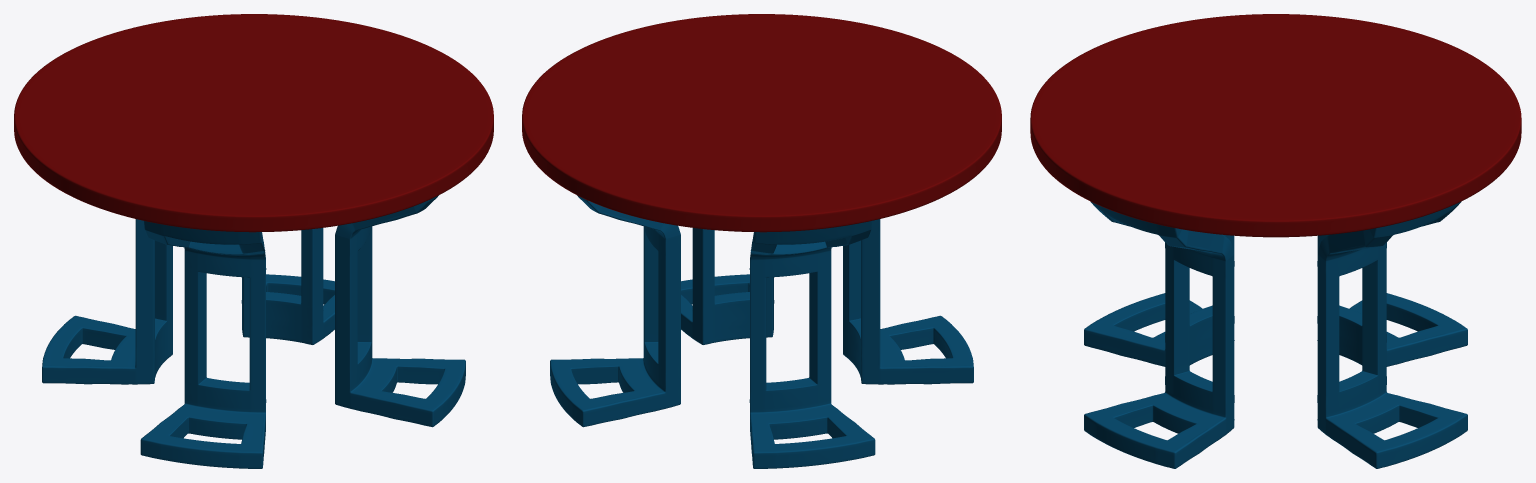
The model's file is MesaRobotHP.fbx.
3 views of the same model, side by side, from view 1: azimuth 30°, elevation 25°; view 2: azimuth 150°, elevation 25°; view 3: azimuth 270°, elevation 25° (orthographic). The views are drawn at different scales.
Parts seen in each view (by area): view 1: MesaRobot; view 2: MesaRobot; view 3: MesaRobot.
Boxes of the visible parts, x1=… form: MesaRobot: x1=14, y1=14, x2=493, y2=468; MesaRobot: x1=522, y1=14, x2=1001, y2=468; MesaRobot: x1=1030, y1=14, x2=1521, y2=468.
Size of the model in its own units: 240 by 146 by 240.
